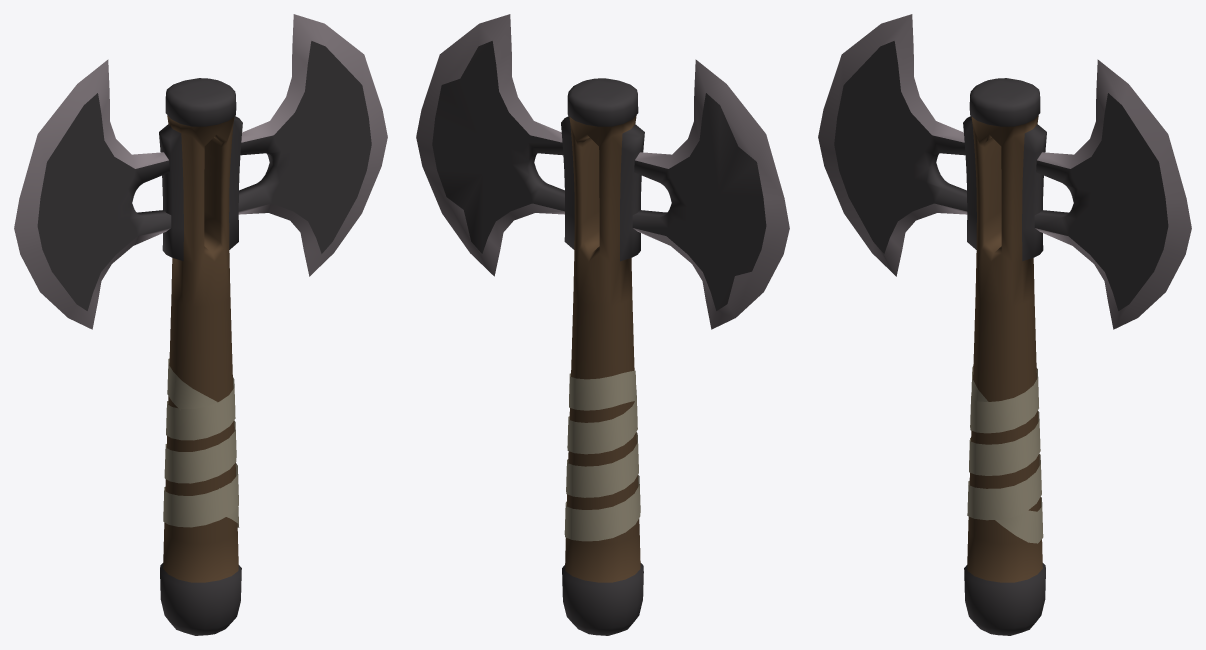
The model's file is double-axe.glb.
3 renders of one model, left to right at view 1: azimuth 30°, elevation 25°; view 2: azimuth 150°, elevation 25°; view 3: azimuth 330°, elevation 25°, orthographic.
Parts seen in each view (by area): view 1: Weapon_DoubleAxe; view 2: Weapon_DoubleAxe; view 3: Weapon_DoubleAxe.
Part boxes in pixels (left/top/right/bottom): Weapon_DoubleAxe: left=14, top=14, right=387, bottom=635; Weapon_DoubleAxe: left=416, top=14, right=789, bottom=635; Weapon_DoubleAxe: left=818, top=14, right=1191, bottom=635.
Size of the model in its own units: 0.6628 by 1.01 by 0.1247.
1 material, 1 textured.
